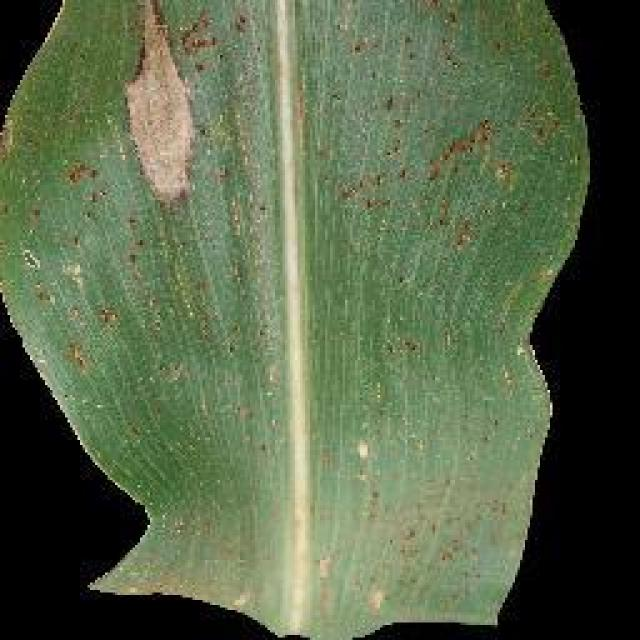Corn Common Rust: (99, 138, 564, 458)
